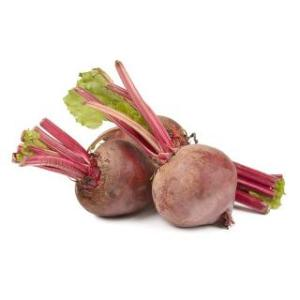beet: (151, 142, 241, 228), (68, 140, 152, 218)
